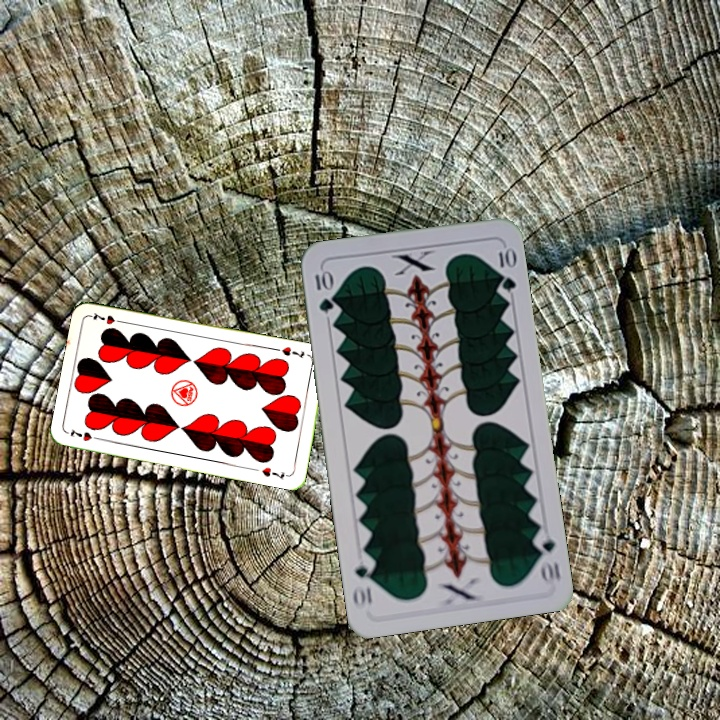G10: (530, 528, 563, 585), (311, 266, 336, 316)
H7: (66, 425, 105, 444), (278, 343, 307, 361)
